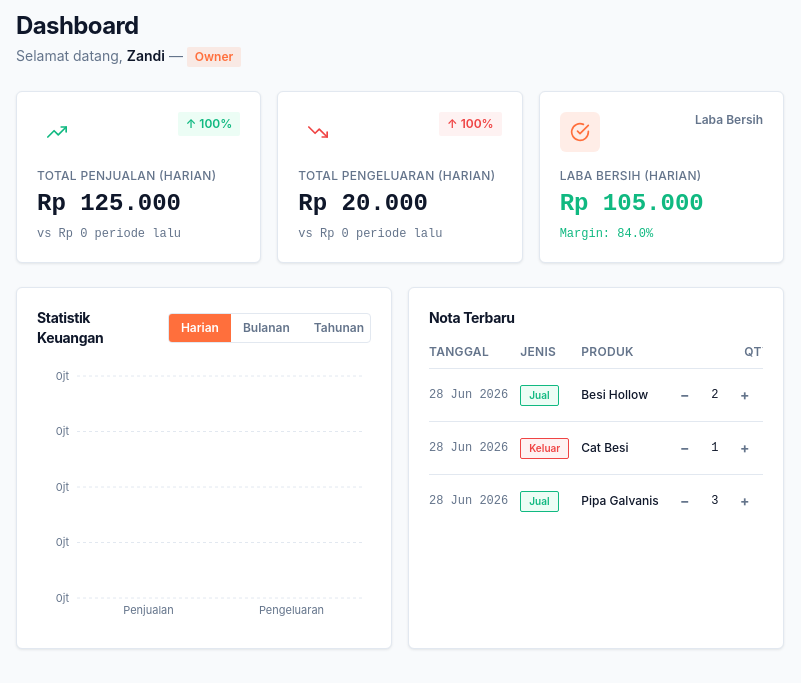
Test case: Dashboard › period filter buttons › should switch to Tahunan when clicked
This screenshot has width=801, height=683.
Click the button "Tahunan" at [339, 328], box [302, 314, 376, 342]
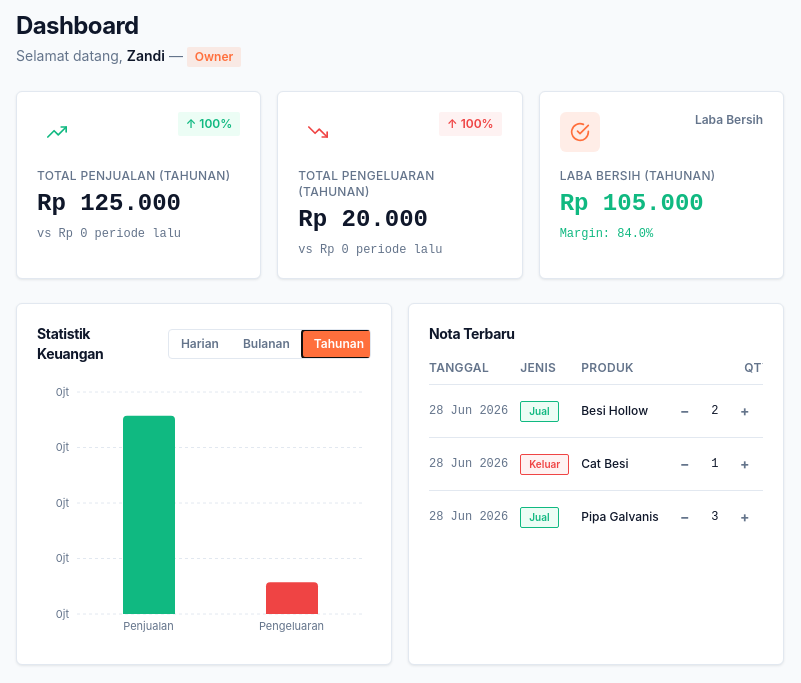
Result: the text "Total Penjualan (tahunan)" is shown at [37, 168, 240, 184]
